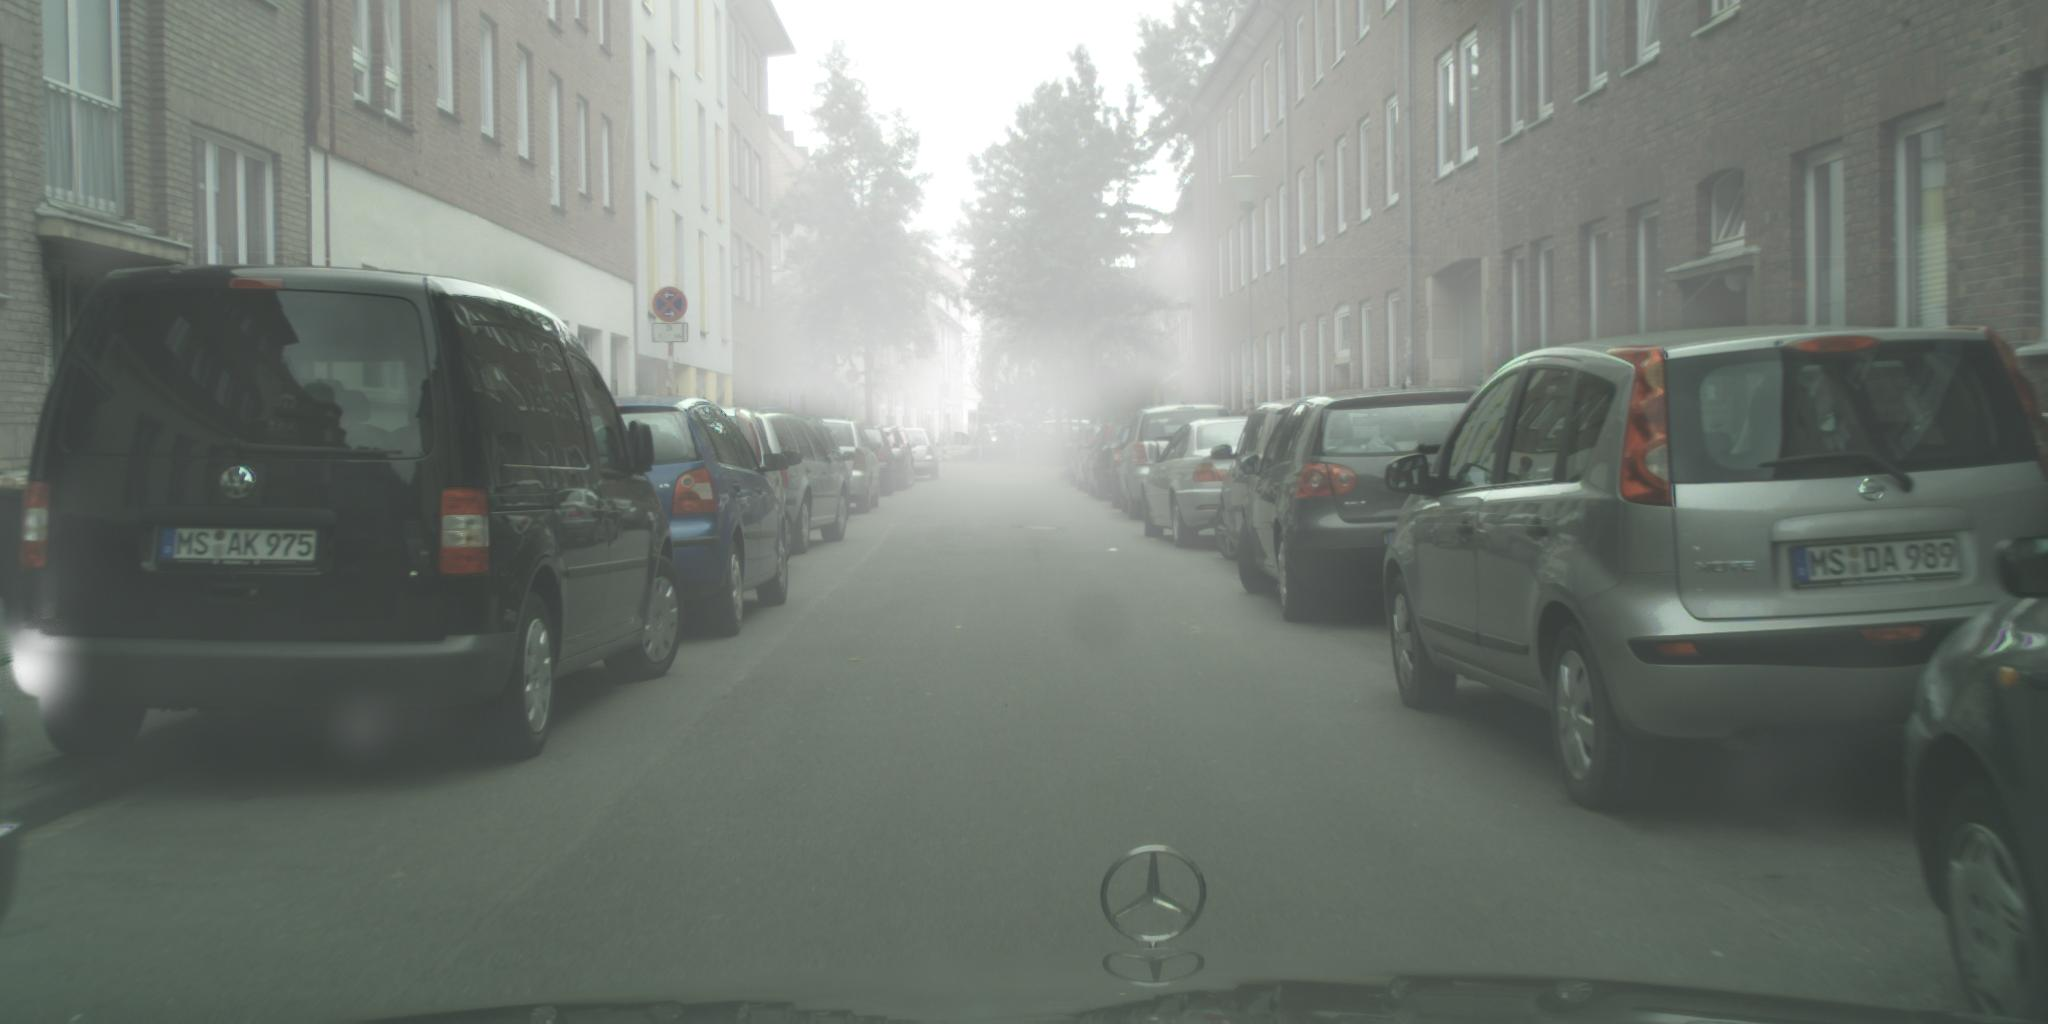car: (10, 264, 684, 759), (1381, 324, 2048, 812), (1900, 532, 2048, 1024), (1238, 385, 1498, 626), (597, 394, 792, 637), (1209, 397, 1348, 564), (1132, 415, 1256, 551), (744, 408, 850, 556), (1110, 402, 1240, 522), (701, 405, 805, 541), (690, 404, 782, 526), (792, 418, 883, 515), (782, 415, 856, 524), (1068, 419, 1138, 492), (1088, 417, 1140, 504), (1093, 422, 1143, 509), (842, 424, 900, 498), (1034, 418, 1105, 462), (968, 410, 1038, 451), (876, 428, 918, 490), (901, 426, 940, 482)
